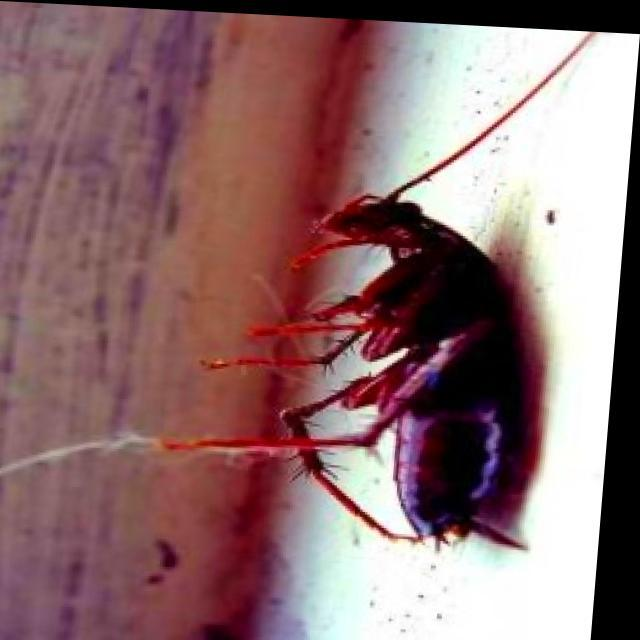cockroach: (247, 142, 542, 600)
